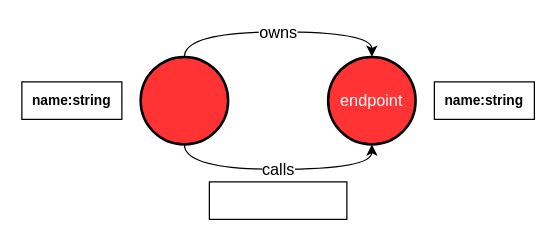
Some shapes in this 556 by 241 pixel diagram are drawn without their labels. Here are the shapes that lost their labels. From the top down, the box of each, then its label:
(139, 55, 229, 145): api
(208, 181, 347, 219): call_counter:long
